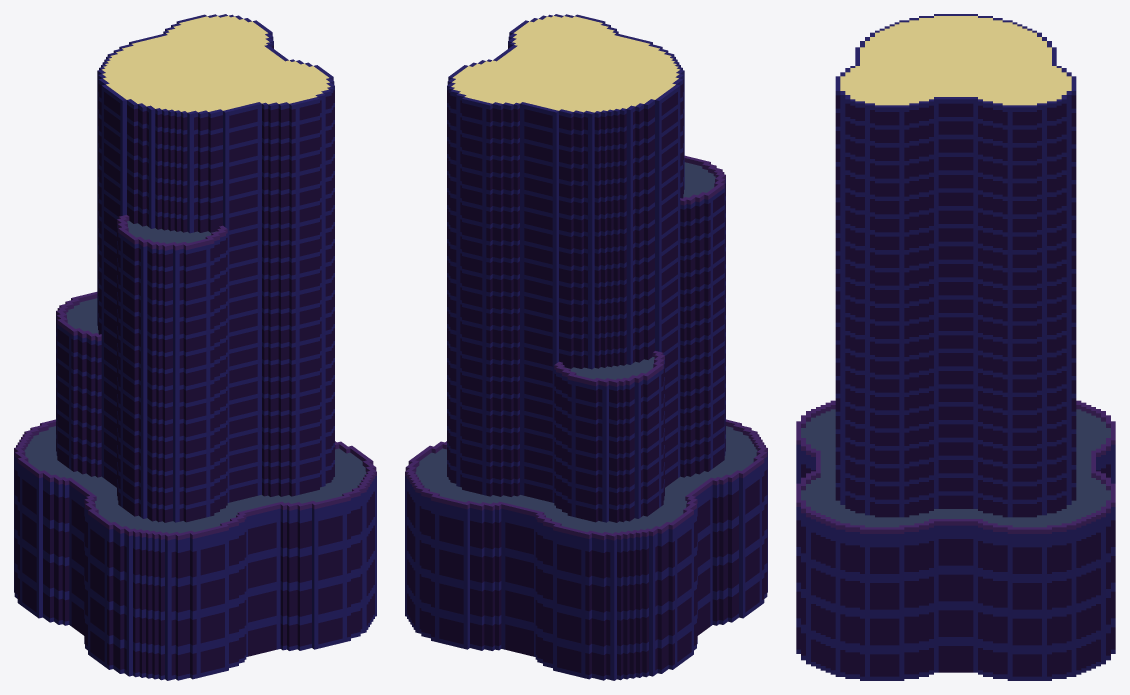
File: skyscraper3-2.obj
3 views of the same model, side by side, from view 1: azimuth 30°, elevation 25°; view 2: azimuth 150°, elevation 25°; view 3: azimuth 270°, elevation 25° (orthographic). The views are drawn at different scales.
Size of the model in its own units: 6.5 by 12.5 by 6.5.
1 material, 1 textured.
